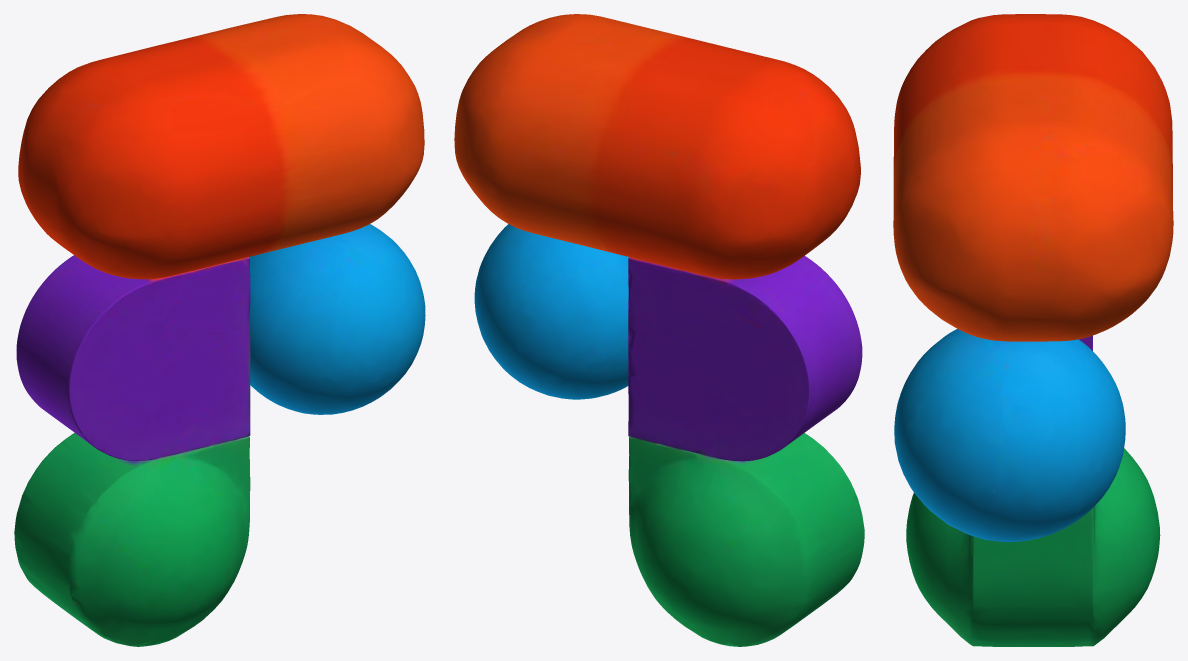
Rendered from tool-figma.glb.
The picture shows the model from 3 angles, left to right: view 1: azimuth 30°, elevation 25°; view 2: azimuth 150°, elevation 25°; view 3: azimuth 270°, elevation 25°; orthographic projection. The views are drawn at different scales.
Visible parts, largest first — view 1: tripo_node_1e6e6fff-d0f1-4981-8f4a-51cb438b8e6c; view 2: tripo_node_1e6e6fff-d0f1-4981-8f4a-51cb438b8e6c; view 3: tripo_node_1e6e6fff-d0f1-4981-8f4a-51cb438b8e6c.
Part boxes in pixels (x1=…): tripo_node_1e6e6fff-d0f1-4981-8f4a-51cb438b8e6c: x1=14, y1=14, x2=425, y2=646; tripo_node_1e6e6fff-d0f1-4981-8f4a-51cb438b8e6c: x1=454, y1=14, x2=864, y2=646; tripo_node_1e6e6fff-d0f1-4981-8f4a-51cb438b8e6c: x1=893, y1=14, x2=1173, y2=646.
Size of the model in its own units: 0.67 by 0.9795 by 0.4048.
Materials: 1 (1 with a texture image).
